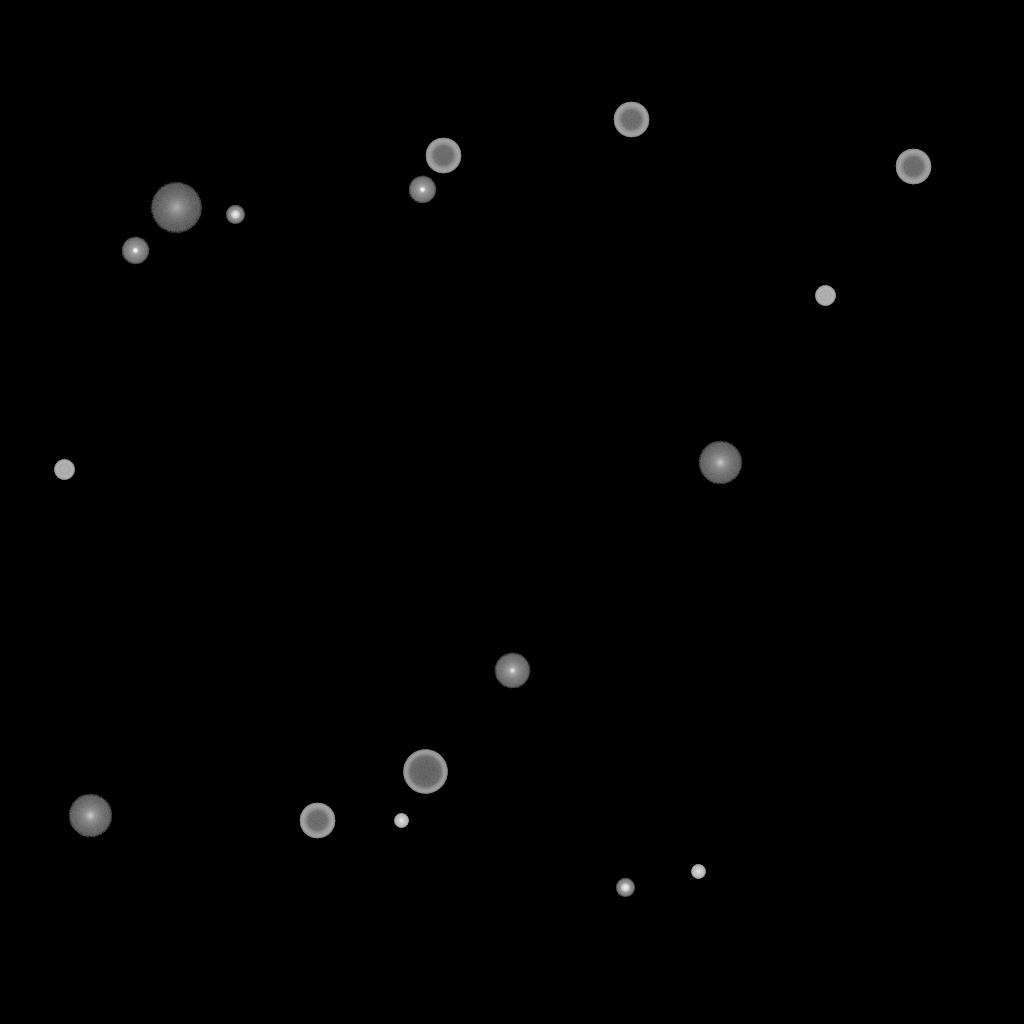depth:-10: (408, 176, 436, 204), (121, 237, 149, 265)
depth:-20: (616, 879, 634, 897), (226, 206, 244, 224)
depth:-30: (691, 865, 705, 879), (394, 814, 408, 828)
depth:-40: (54, 460, 74, 480), (815, 286, 835, 306)
depth:-60: (425, 138, 461, 174), (299, 803, 335, 839), (895, 149, 931, 185), (613, 102, 649, 138)
depth:-70: (403, 750, 447, 794)
depth:0: (494, 653, 530, 689)
depth:10: (68, 794, 112, 838), (698, 441, 742, 485)
depth:20: (150, 183, 202, 233)
